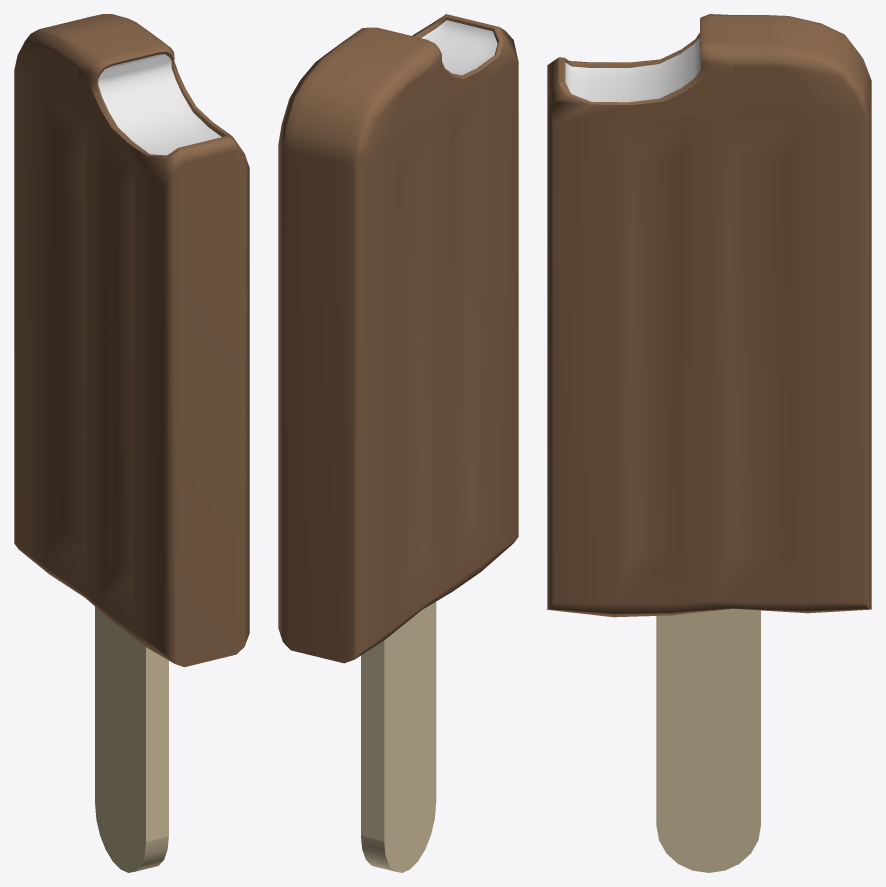
Rendered from IceCream.fbx.
3 renders of one model, left to right at view 1: azimuth 30°, elevation 25°; view 2: azimuth 150°, elevation 25°; view 3: azimuth 270°, elevation 25°, orthographic. The views are drawn at different scales.
Parts seen in each view (by area): view 1: pCube2; view 2: pCube2; view 3: pCube2.
Boxes of the visible parts, x1,y1,x2,y2 form: pCube2: [14, 14, 249, 872]; pCube2: [278, 14, 518, 872]; pCube2: [547, 14, 871, 872].
Size of the model in its own units: 1 by 9.15 by 3.21.
